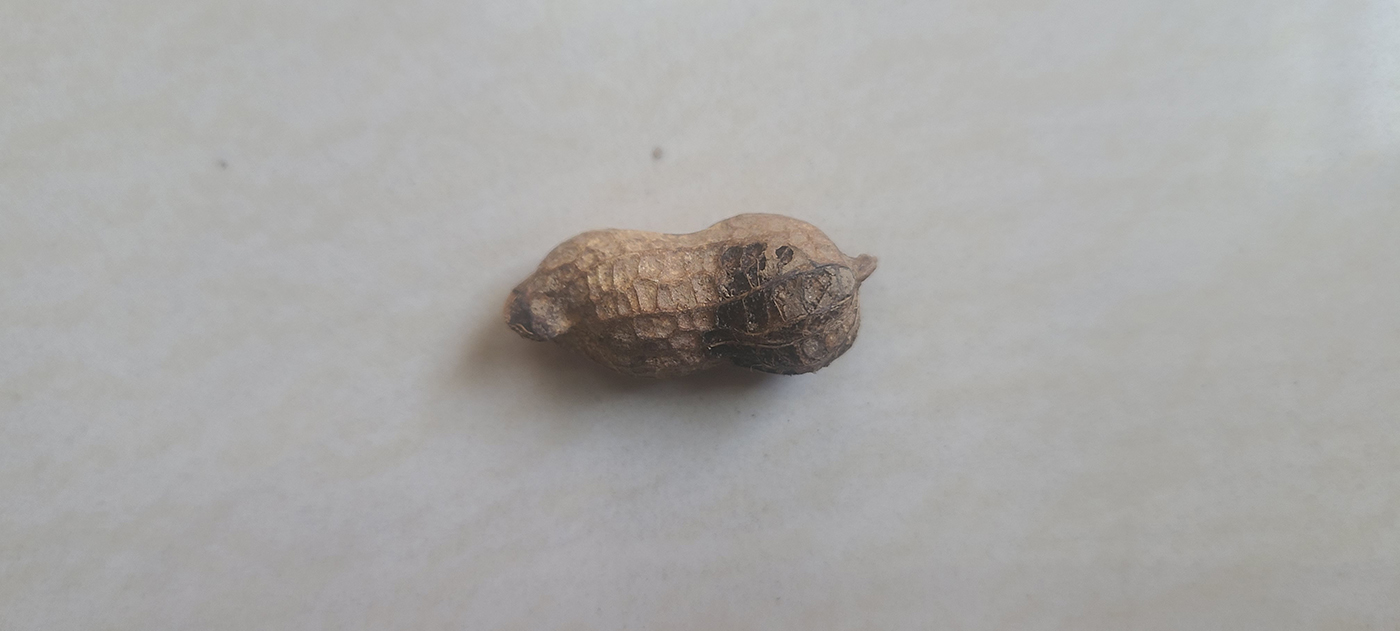l: (502, 209, 865, 383)
